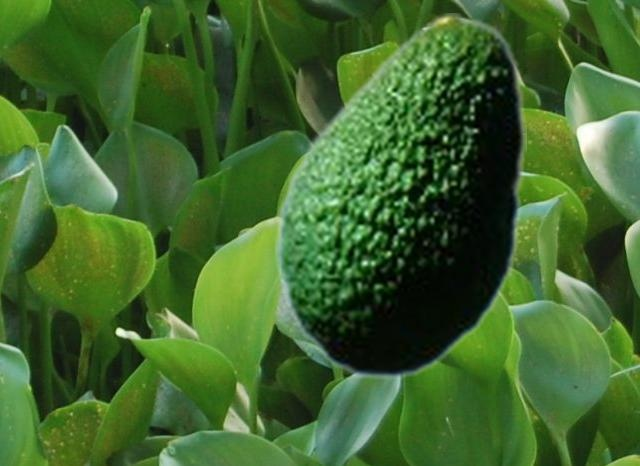avocado: (275, 13, 525, 379)
